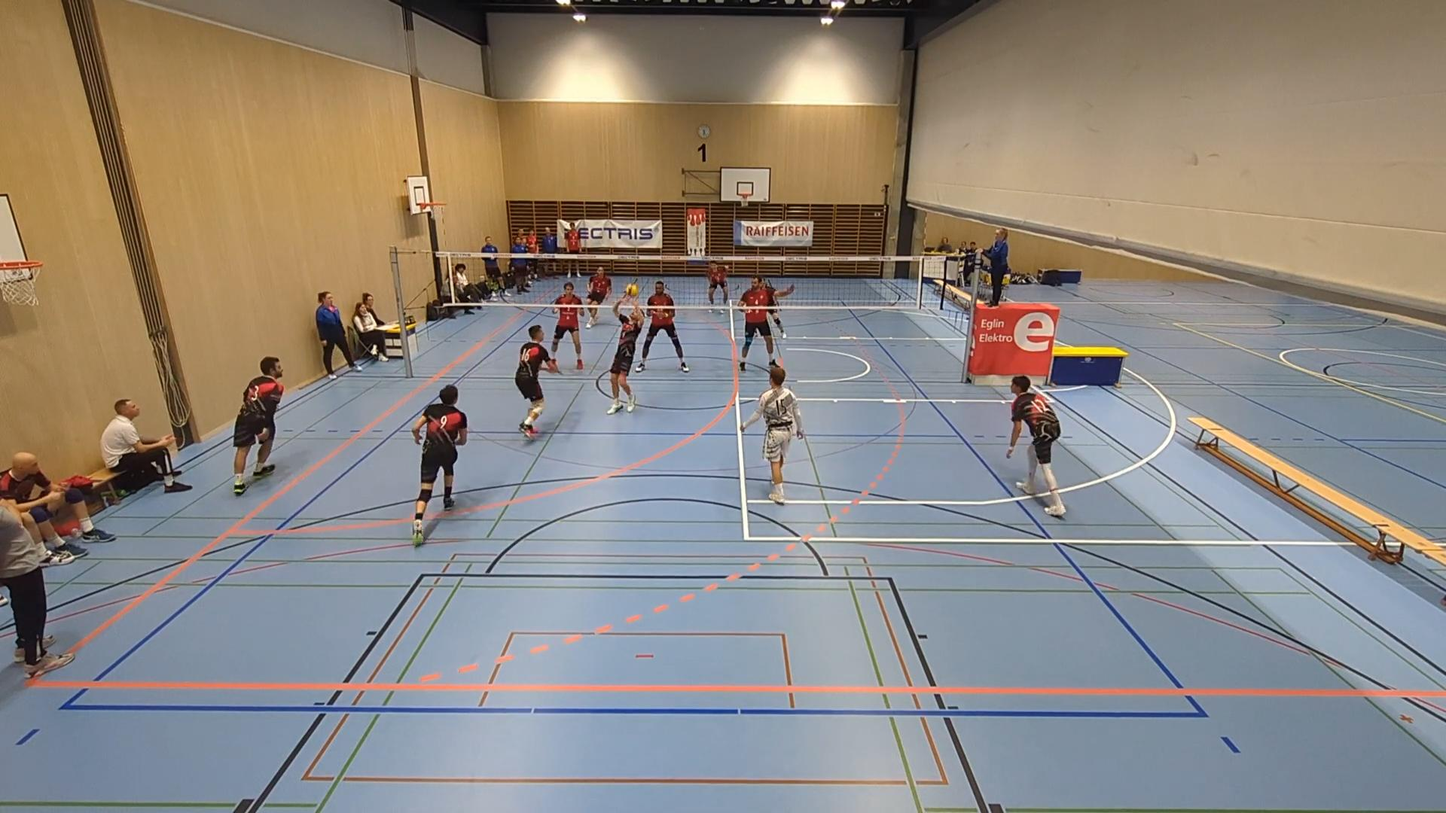Player: (412, 385, 467, 545), (740, 367, 804, 504), (1006, 376, 1065, 516), (233, 356, 284, 495), (514, 325, 559, 438), (739, 276, 793, 370), (635, 281, 688, 372), (551, 282, 584, 370), (586, 266, 612, 328), (708, 262, 729, 306), (770, 307, 786, 339)
Set: (602, 294, 652, 416)
ball: (626, 280, 640, 296)
